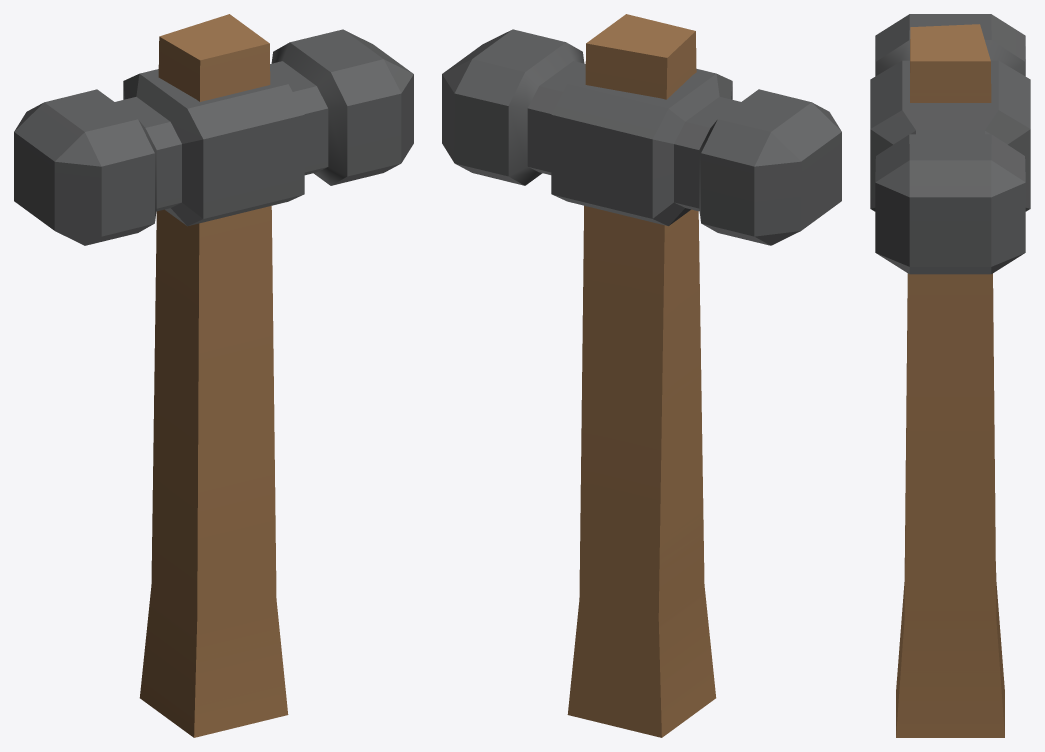
File: Hammer_B.fbx
3 views of the same model, side by side, from view 1: azimuth 30°, elevation 25°; view 2: azimuth 150°, elevation 25°; view 3: azimuth 270°, elevation 25° (orthographic).
Visible parts, largest first — view 1: Hammer_B; view 2: Hammer_B; view 3: Hammer_B.
Boxes of the visible parts, bbox=[...] form: Hammer_B: bbox=[14, 14, 413, 737]; Hammer_B: bbox=[442, 14, 841, 737]; Hammer_B: bbox=[870, 14, 1030, 737].
Size of the model in its own units: 25.79 by 45.92 by 9.95.
